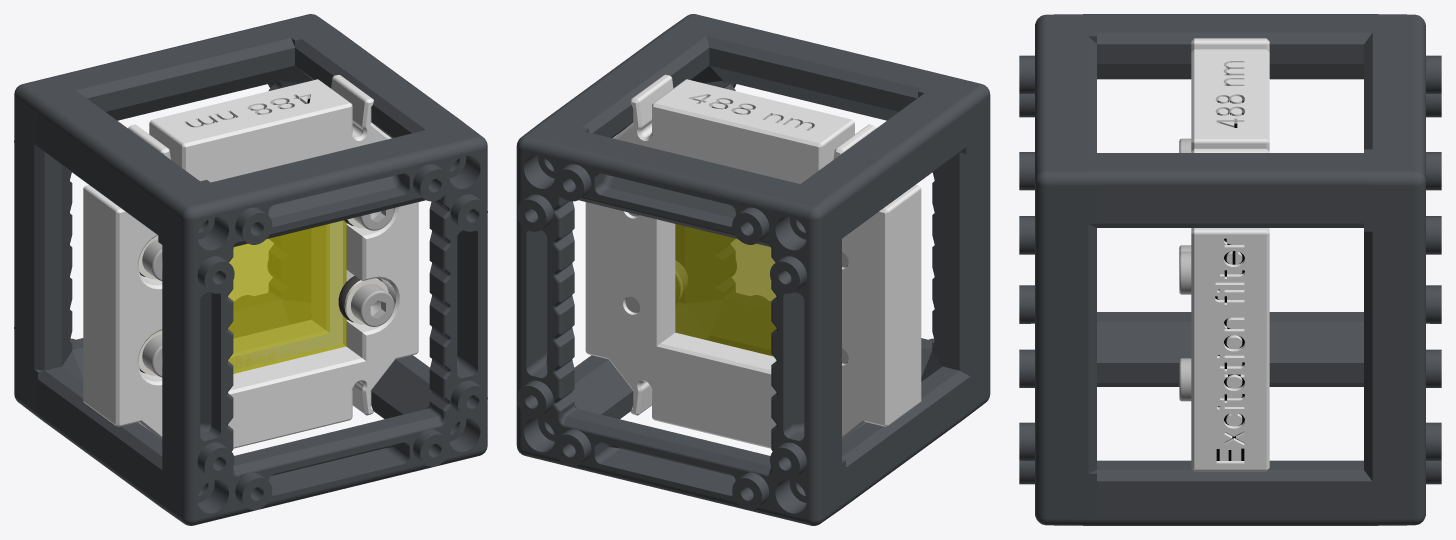
The model's file is ASS_-_2033_-_CUBEXIFILWLS488_-_V04.glb.
3 renders of one model, left to right at view 1: azimuth 30°, elevation 25°; view 2: azimuth 150°, elevation 25°; view 3: azimuth 270°, elevation 25°, orthographic. The views are drawn at different scales.
Parts seen in each view (by area): view 1: PRT - 1003 - CUBHLF111 - V04:2, PRT - 2045 - INSEXCFILS30WLS488 - V04:1, PRT - 1003 - CUBHLF111 - V04:1, BUY - Excitation filter - 30x30x1 WLS485:1, ISO 4762 - Hex socket head cap screw - M3 x 8 - 8.8 - A2K:1 (×4); view 2: PRT - 1003 - CUBHLF111 - V04:1, PRT - 2045 - INSEXCFILS30WLS488 - V04:1, PRT - 1003 - CUBHLF111 - V04:2, BUY - Excitation filter - 30x30x1 WLS485:1; view 3: PRT - 1003 - CUBHLF111 - V04:2, PRT - 1003 - CUBHLF111 - V04:1, PRT - 2045 - INSEXCFILS30WLS488 - V04:1, ISO 4762 - Hex socket head cap screw - M3 x 8 - 8.8 - A2K:1 (×2).
Boxes of the visible parts, box(x1,y1,x2,y2) form: PRT - 1003 - CUBHLF111 - V04:2: box(38, 31, 487, 525); PRT - 2045 - INSEXCFILS30WLS488 - V04:1: box(83, 75, 418, 448); PRT - 1003 - CUBHLF111 - V04:1: box(14, 14, 455, 429); BUY - Excitation filter - 30x30x1 WLS485:1: box(228, 220, 346, 373); ISO 4762 - Hex socket head cap screw - M3 x 8 - 8.8 - A2K:1 (×4): box(142, 208, 394, 377); PRT - 1003 - CUBHLF111 - V04:1: box(516, 93, 966, 525); PRT - 2045 - INSEXCFILS30WLS488 - V04:1: box(585, 74, 921, 448); PRT - 1003 - CUBHLF111 - V04:2: box(545, 14, 990, 506); BUY - Excitation filter - 30x30x1 WLS485:1: box(675, 224, 776, 356); PRT - 1003 - CUBHLF111 - V04:2: box(1019, 14, 1363, 525); PRT - 1003 - CUBHLF111 - V04:1: box(1097, 14, 1441, 525); PRT - 2045 - INSEXCFILS30WLS488 - V04:1: box(1191, 38, 1269, 471); ISO 4762 - Hex socket head cap screw - M3 x 8 - 8.8 - A2K:1 (×2): box(1179, 251, 1191, 401).
Bounding box in the file's own units: 49.8 × 49.8 × 53.8.
